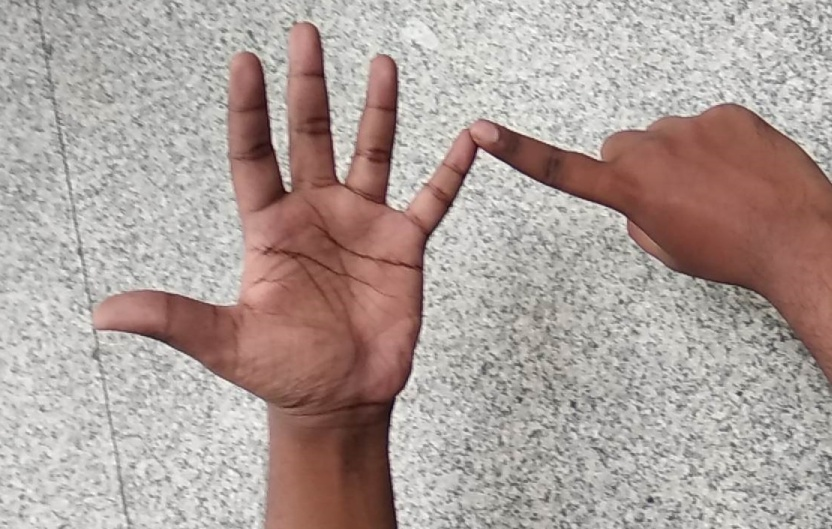i: (90, 18, 616, 418)
